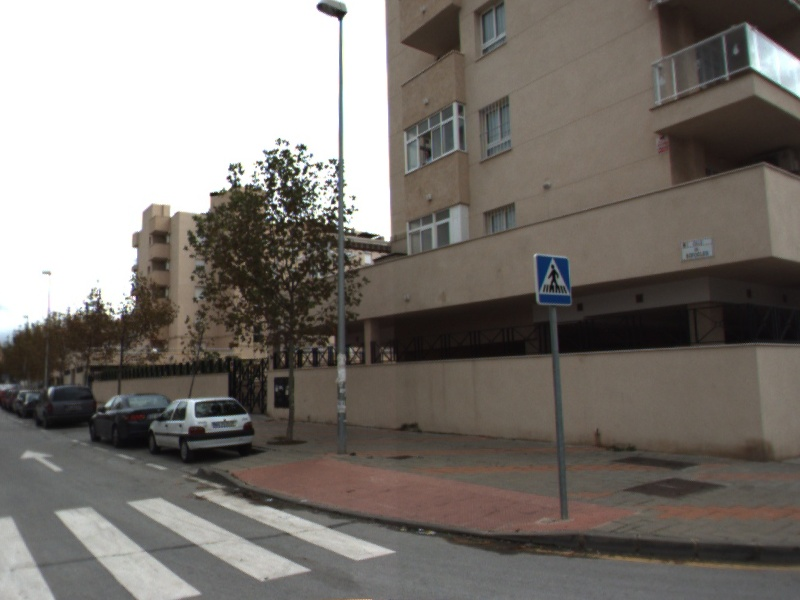STRAIGHT: (18, 448, 66, 474)
